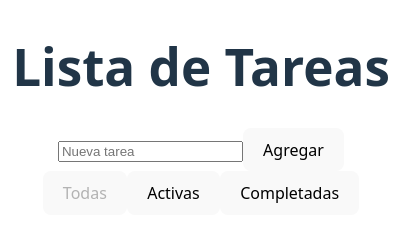
TodoList Component › agrega una nueva tarea
In the field with placeholder "Nueva tarea": x=150, y=151 [58,141,243,162], type "Aprender Testing"
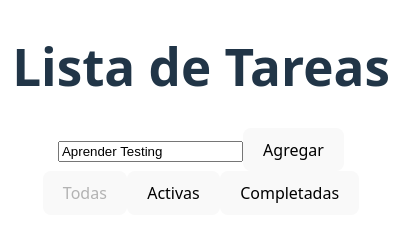
Click the button "Agregar": x=294, y=150 [243,128,344,172]
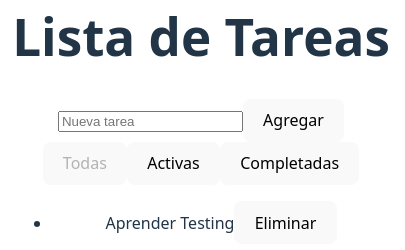
Expected: the text "Aprender Testing" is shown, [105,212,234,234]
Expected: the field with placeholder "Nueva tarea" is empty, [58,111,243,132]
